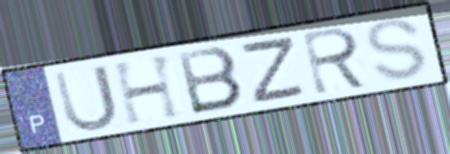B: (174, 44, 247, 117)
H: (109, 50, 186, 128)
R: (299, 24, 373, 98)
S: (363, 16, 431, 82)
U: (50, 62, 121, 135)
Z: (240, 33, 309, 106)
